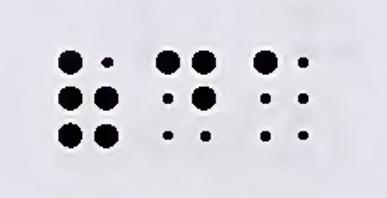a: (254, 48, 310, 143)
d: (156, 50, 217, 143)
han: (58, 51, 120, 150)
